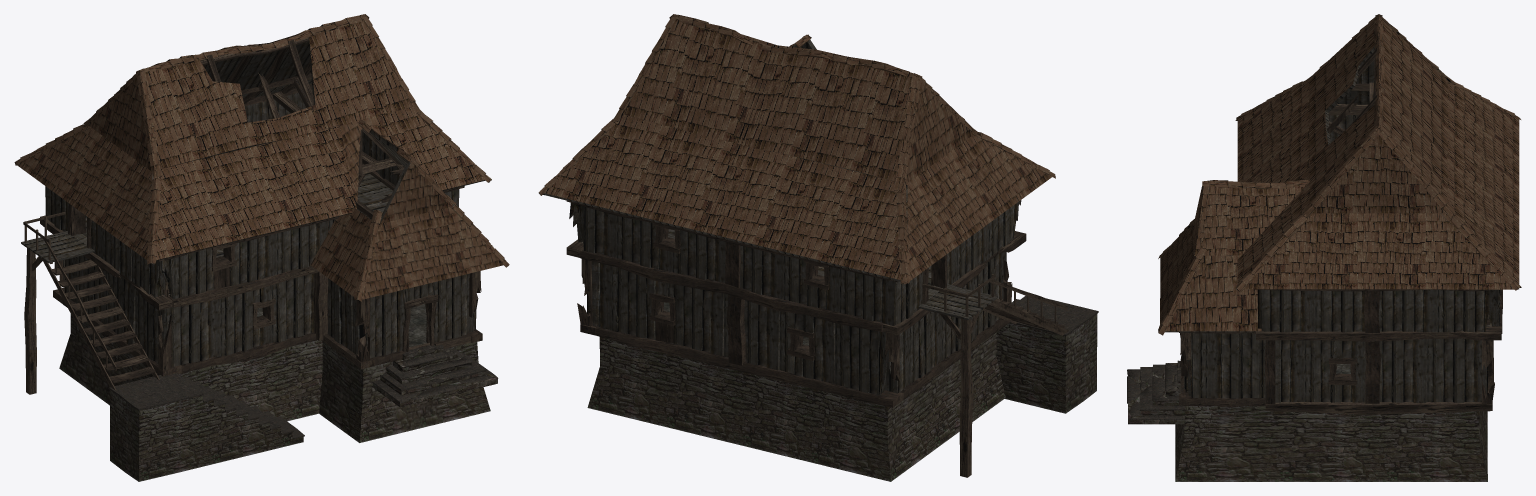
File: G3_Myrtana_House_2_Story_02.obj
The picture shows the model from 3 angles, left to right: view 1: azimuth 30°, elevation 25°; view 2: azimuth 150°, elevation 25°; view 3: azimuth 270°, elevation 25°; orthographic projection. The views are drawn at different scales.
Visible parts, largest first — view 1: G3_Myrtana_House_2_Story_02_1, G3_Myrtana_House_2_Story_02_3, G3_Myrtana_House_2_Story_02_2, G3_Myrtana_House_2_Story_02_4, G3_Myrtana_House_2_Story_02_5, G3_Myrtana_House_2_Story_02_0; view 2: G3_Myrtana_House_2_Story_02_1, G3_Myrtana_House_2_Story_02_3, G3_Myrtana_House_2_Story_02_2, G3_Myrtana_House_2_Story_02_4, G3_Myrtana_House_2_Story_02_5; view 3: G3_Myrtana_House_2_Story_02_1, G3_Myrtana_House_2_Story_02_3, G3_Myrtana_House_2_Story_02_2, G3_Myrtana_House_2_Story_02_4, G3_Myrtana_House_2_Story_02_5.
Boxes of the visible parts, x1,y1,x2,y2 form: G3_Myrtana_House_2_Story_02_1: (14,14,509,301); G3_Myrtana_House_2_Story_02_3: (21,37,490,366); G3_Myrtana_House_2_Story_02_2: (59,314,497,481); G3_Myrtana_House_2_Story_02_4: (23,37,482,394); G3_Myrtana_House_2_Story_02_5: (109,344,498,439); G3_Myrtana_House_2_Story_02_0: (257,304,428,347); G3_Myrtana_House_2_Story_02_1: (538,14,1055,284); G3_Myrtana_House_2_Story_02_3: (543,40,1021,395); G3_Myrtana_House_2_Story_02_2: (587,314,1097,481); G3_Myrtana_House_2_Story_02_4: (566,47,1068,477); G3_Myrtana_House_2_Story_02_5: (1010,295,1098,336); G3_Myrtana_House_2_Story_02_1: (1158,14,1521,335); G3_Myrtana_House_2_Story_02_3: (1165,41,1518,402); G3_Myrtana_House_2_Story_02_2: (1128,363,1487,481); G3_Myrtana_House_2_Story_02_4: (1179,48,1502,414); G3_Myrtana_House_2_Story_02_5: (1127,360,1185,419).
Size of the model in its own units: 21.07 by 18.27 by 18.94.
